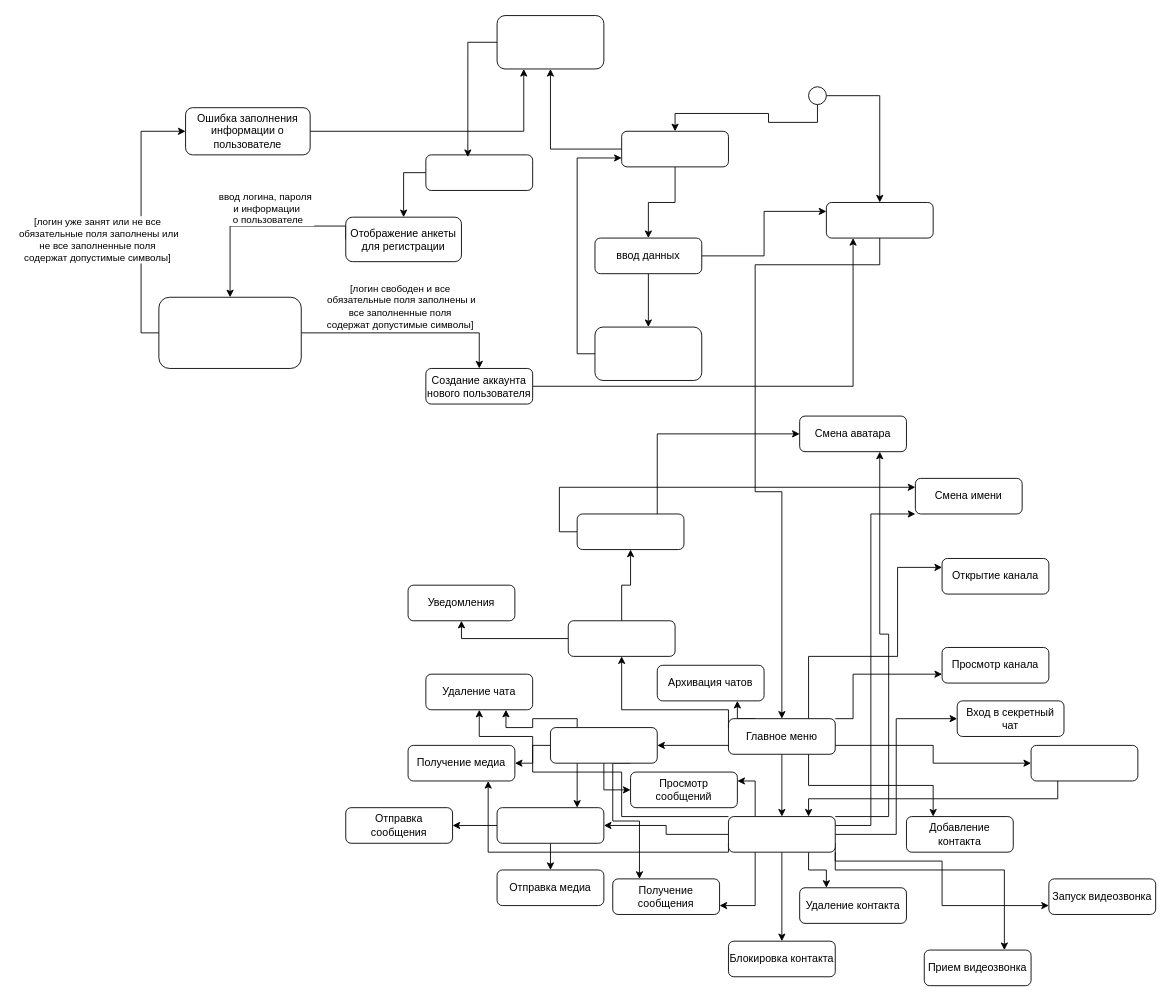
Image size: 1171x1001. Some labels were removed from this diagram. The shapes that lost their labels are listed below. From the top down, each one's centre as x and y in pixels, then its label:
At (x=550, y=42): "регистрация".
At (x=674, y=148): "Авторизация".
At (x=479, y=172): "Ожидание регистрации".
At (x=879, y=220): "Вход".
At (x=229, y=332): "Проверка свободности логина и корректности заполнения поле ргистрации".
At (x=648, y=353): "неправильный логин или пароль".
At (x=630, y=531): "Просмотр профиля".
At (x=621, y=638): "Изменение настроек".
At (x=603, y=745): "Групповой чат".
At (x=1084, y=762): "Поиск чатов".
At (x=550, y=825): "Написание сообщения".
At (x=781, y=834): "Чат с пользователем".
